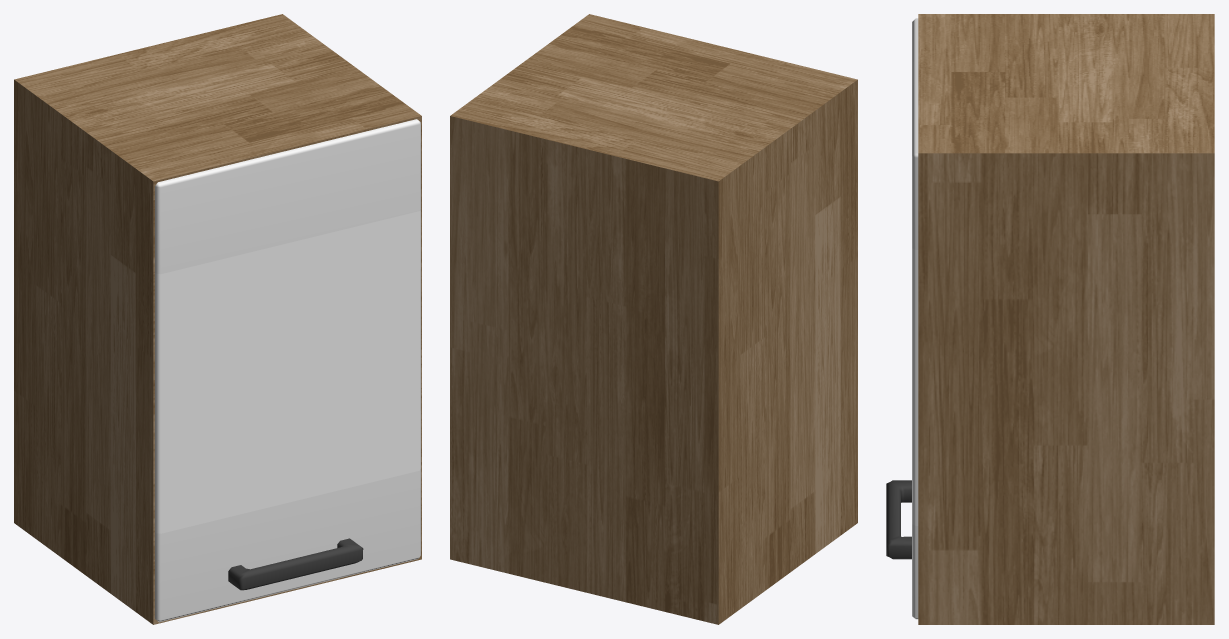
The model's file is kitchen_072.fbx.
The picture shows the model from 3 angles, left to right: view 1: azimuth 30°, elevation 25°; view 2: azimuth 150°, elevation 25°; view 3: azimuth 270°, elevation 25°; orthographic projection. The views are drawn at different scales.
Visible parts, largest first — view 1: kitchen_072; view 2: kitchen_072; view 3: kitchen_072.
Boxes of the visible parts, bbox=[...] form: kitchen_072: bbox=[14, 14, 421, 624]; kitchen_072: bbox=[450, 14, 857, 624]; kitchen_072: bbox=[886, 14, 1214, 624].
Size of the model in its own units: 66.43 by 66.07 by 105.
